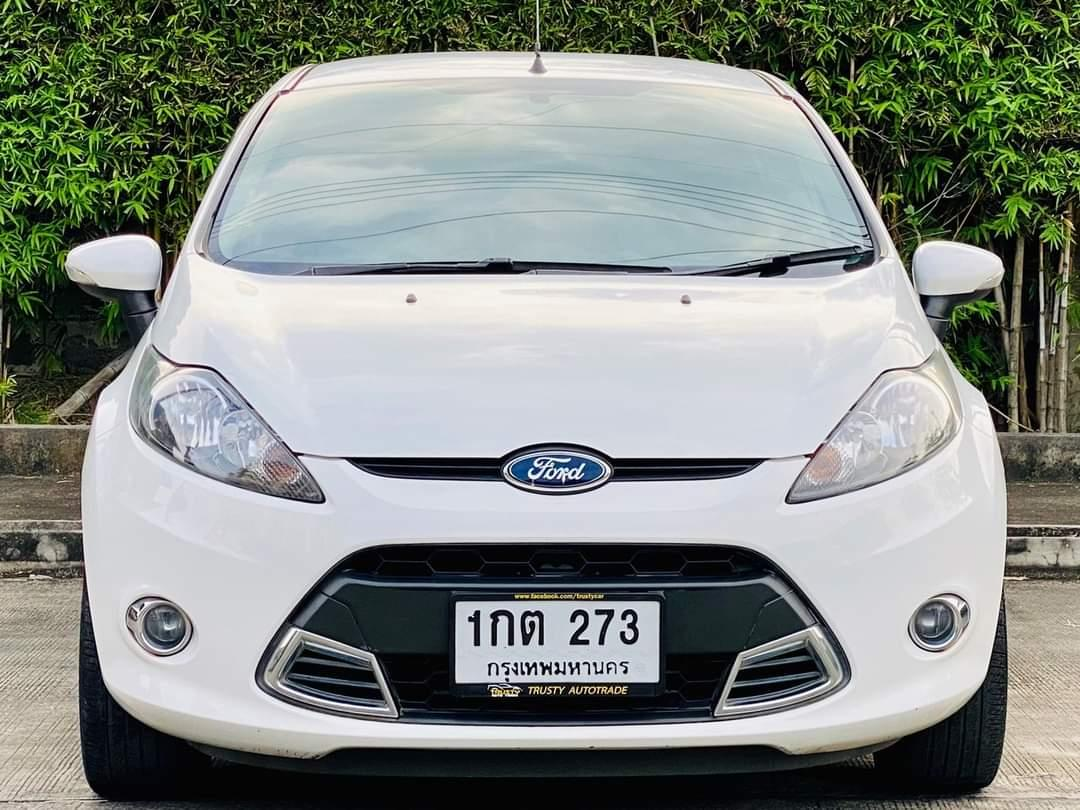license-plate: (445, 587, 671, 700)
